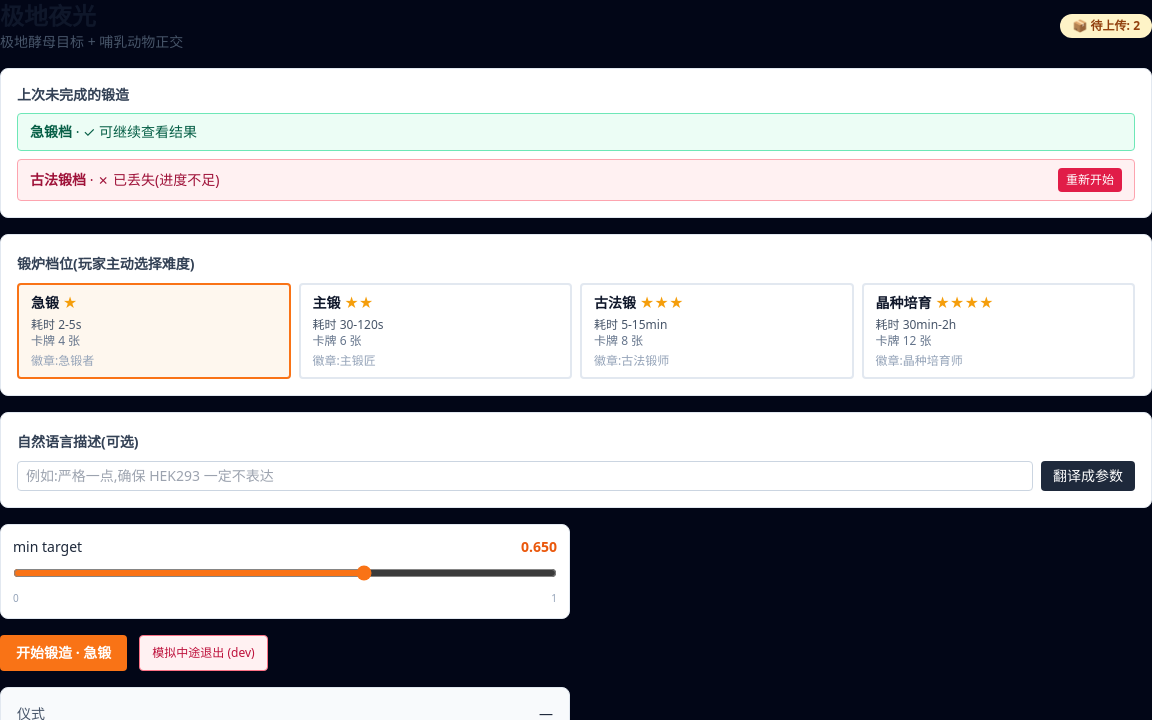
Test: ForgePage · upload-queue-counter (Phase 3 Task 5) › clicking counter opens the queue modal
Click the button with test id "upload-queue-counter": (1106, 26) left=1060, top=14, right=1151, bottom=38
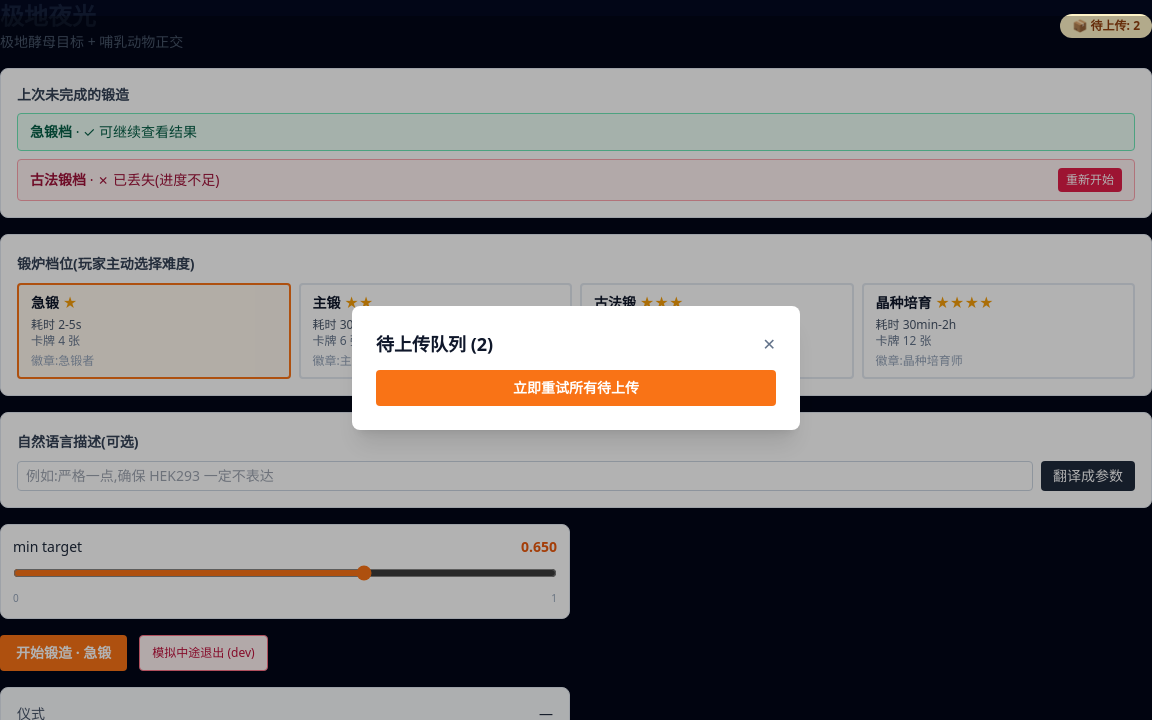
Now the element with test id "upload-queue-modal" is shown
